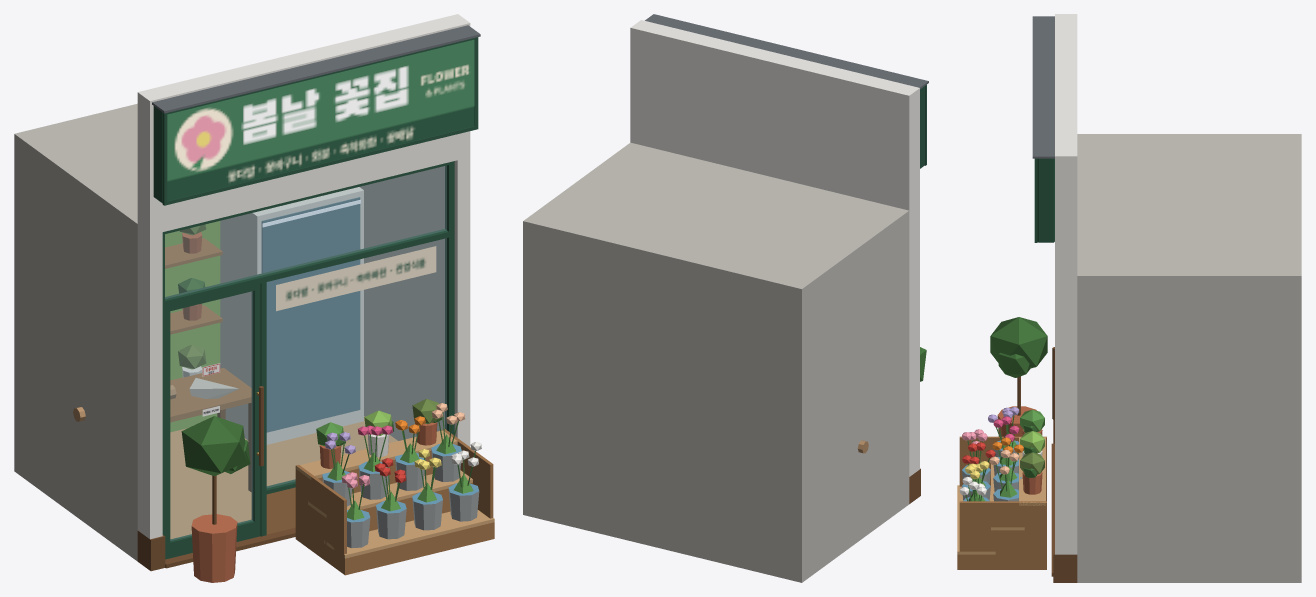
Rendered from SC_Shop_Florist.gltf.
3 renders of one model, left to right at view 1: azimuth 30°, elevation 25°; view 2: azimuth 150°, elevation 25°; view 3: azimuth 270°, elevation 25°, orthographic. The views are drawn at different scales.
Parts seen in each view (by area): view 1: SC_Shop_Florist; view 2: SC_Shop_Florist; view 3: SC_Shop_Florist.
Part boxes in pixels (<box>): SC_Shop_Florist: <box>14,14,494,582</box>; SC_Shop_Florist: <box>523,14,928,582</box>; SC_Shop_Florist: <box>957,14,1301,582</box>.
Bounding box in the file's own units: 3.05 × 4.2 × 3.07.
Materials: 5 (5 with a texture image).
